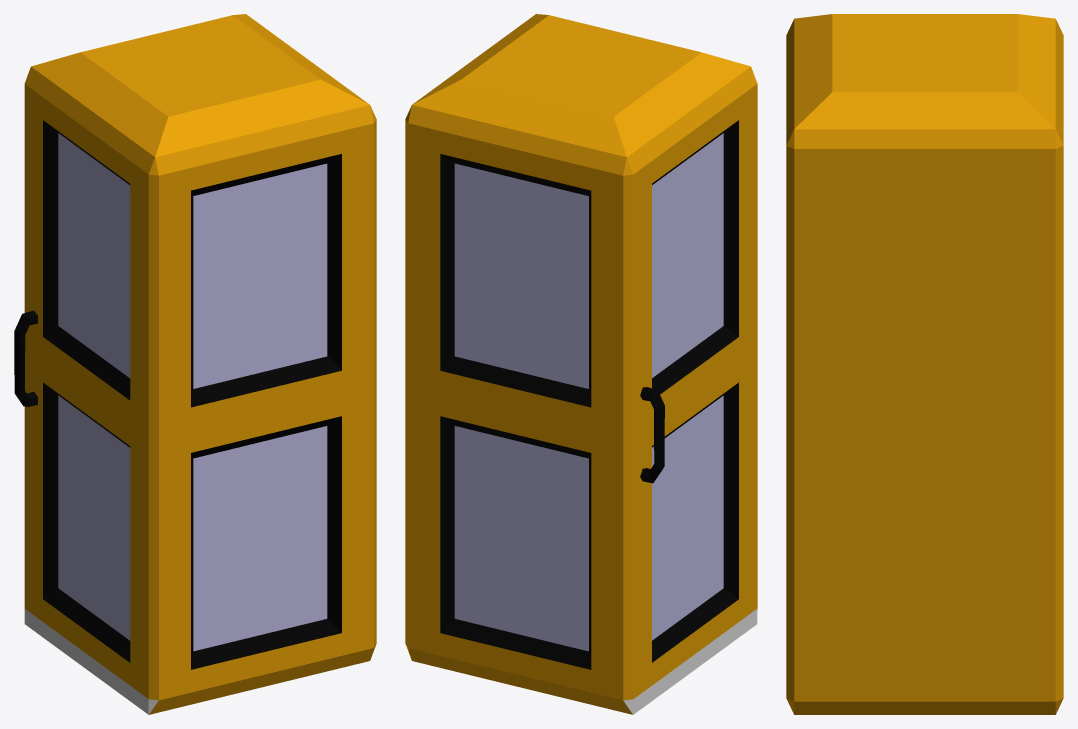
The model's file is yellow_box_mad_man_not_included00.gltf.
3 views of the same model, side by side, from view 1: azimuth 30°, elevation 25°; view 2: azimuth 150°, elevation 25°; view 3: azimuth 270°, elevation 25° (orthographic). The views are drawn at different scales.
Visible parts, largest first — view 1: yellow_box_mad_man_not_included; view 2: yellow_box_mad_man_not_included; view 3: yellow_box_mad_man_not_included.
Boxes of the visible parts, x1,y1,x2,y2 form: yellow_box_mad_man_not_included: (14,14,376,714); yellow_box_mad_man_not_included: (405,14,757,714); yellow_box_mad_man_not_included: (786,14,1063,714).
Bounding box in the file's own units: 1.88 × 4.17 × 1.73.
